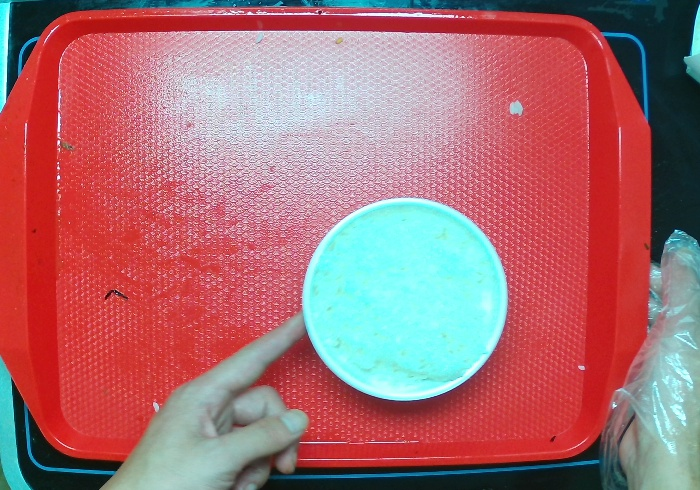YKMZ-Fan_Wan: (301, 196, 509, 403)
